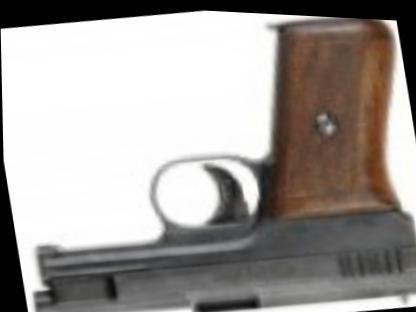pistol: (0, 2, 415, 311)
